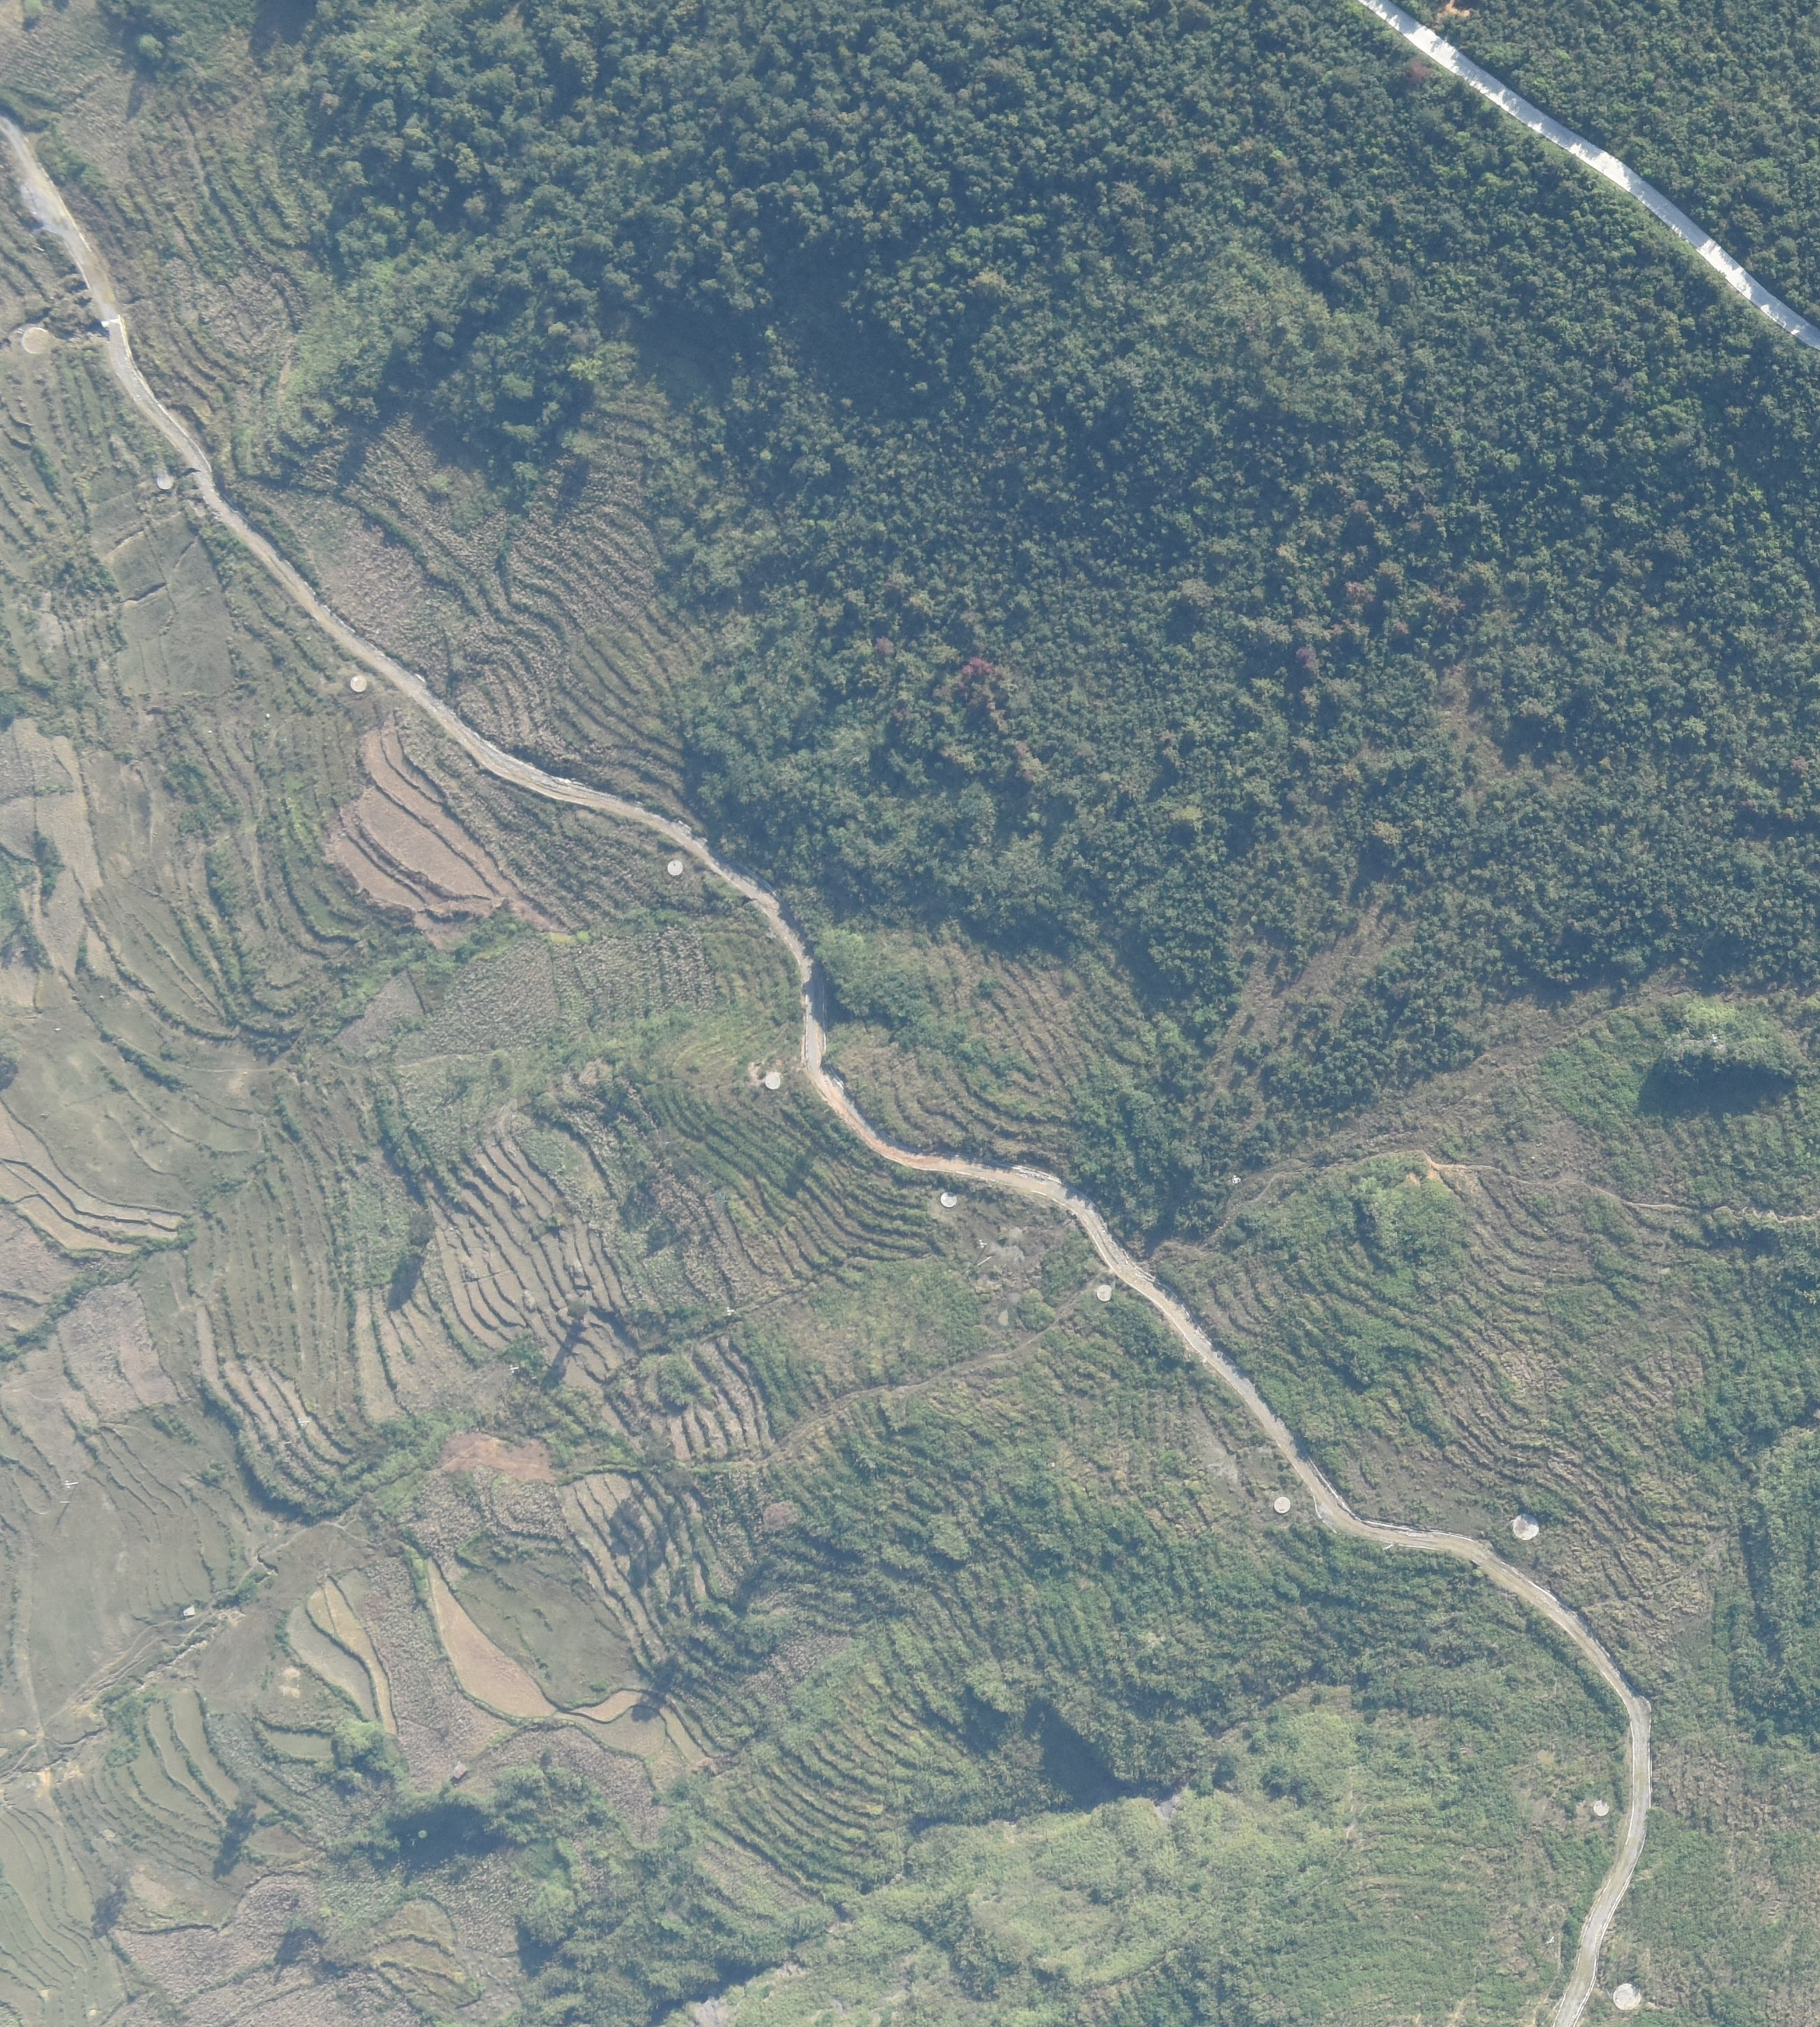cable-tower: (1705, 1028, 1728, 1046), (1228, 1171, 1244, 1185), (63, 1478, 80, 1490), (295, 1418, 312, 1428), (507, 1363, 524, 1373), (978, 1237, 989, 1250), (725, 1306, 738, 1318)
well: (21, 327, 51, 357), (1511, 1511, 1539, 1541), (1612, 1984, 1642, 2011), (940, 1190, 958, 1208), (156, 472, 174, 489), (1096, 1285, 1114, 1302), (1275, 1497, 1292, 1514), (668, 859, 684, 877), (1593, 1798, 1609, 1816), (351, 676, 367, 692), (765, 1073, 782, 1089)
